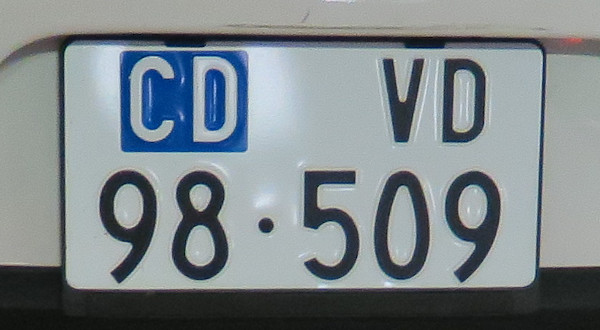license_plate: (63, 43, 544, 290)
